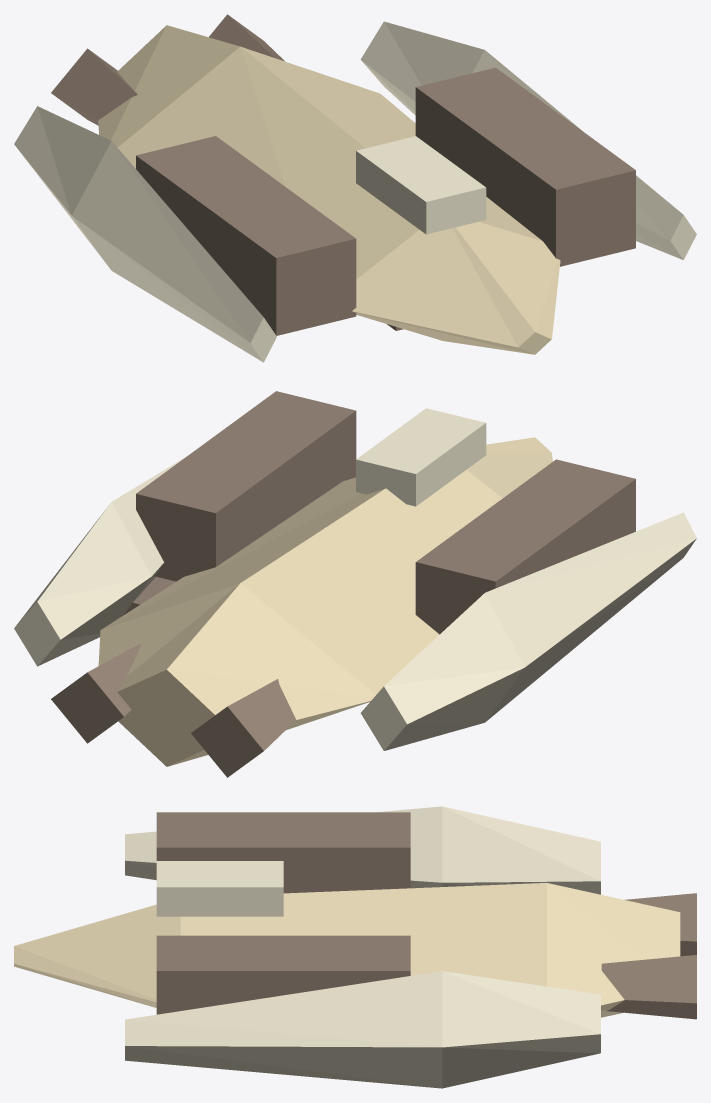
3 views of the same model, one above another, from view 1: azimuth 30°, elevation 25°; view 2: azimuth 150°, elevation 25°; view 3: azimuth 270°, elevation 25° (orthographic). The views are drawn at different scales.
Size of the model in its own units: 2.77 by 1.01 by 4.
